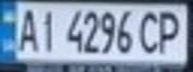2: (78, 7, 100, 55)
4: (60, 6, 84, 54)
6: (115, 7, 139, 55)
9: (96, 7, 121, 55)
A: (12, 5, 42, 53)
C: (136, 7, 163, 55)
I: (33, 6, 60, 53)
P: (154, 7, 187, 55)
